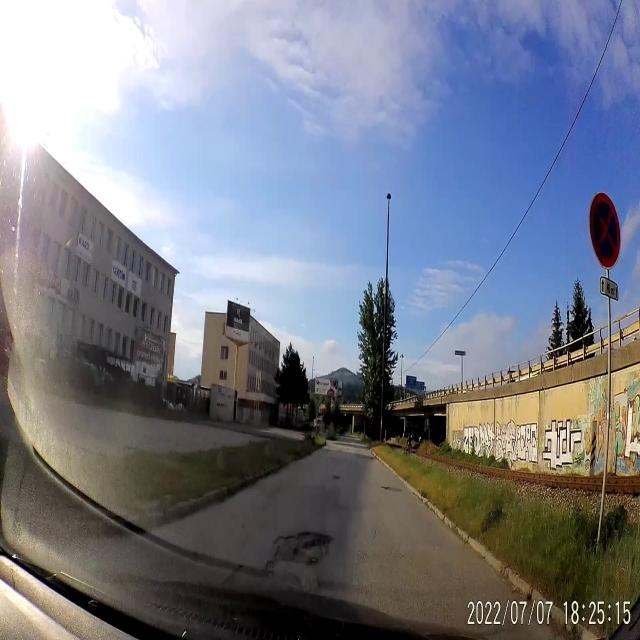Pothole: (274, 526, 338, 562), (377, 482, 402, 496), (264, 560, 275, 582), (331, 470, 342, 486)
